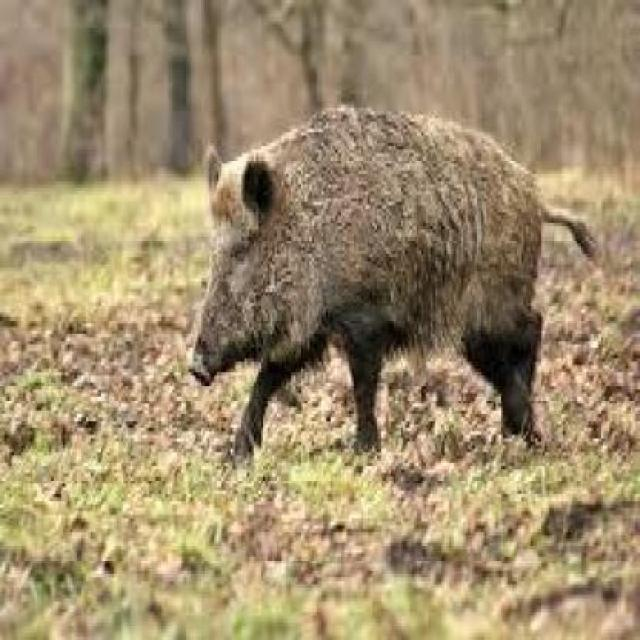Wild Boar: (184, 100, 602, 469)
